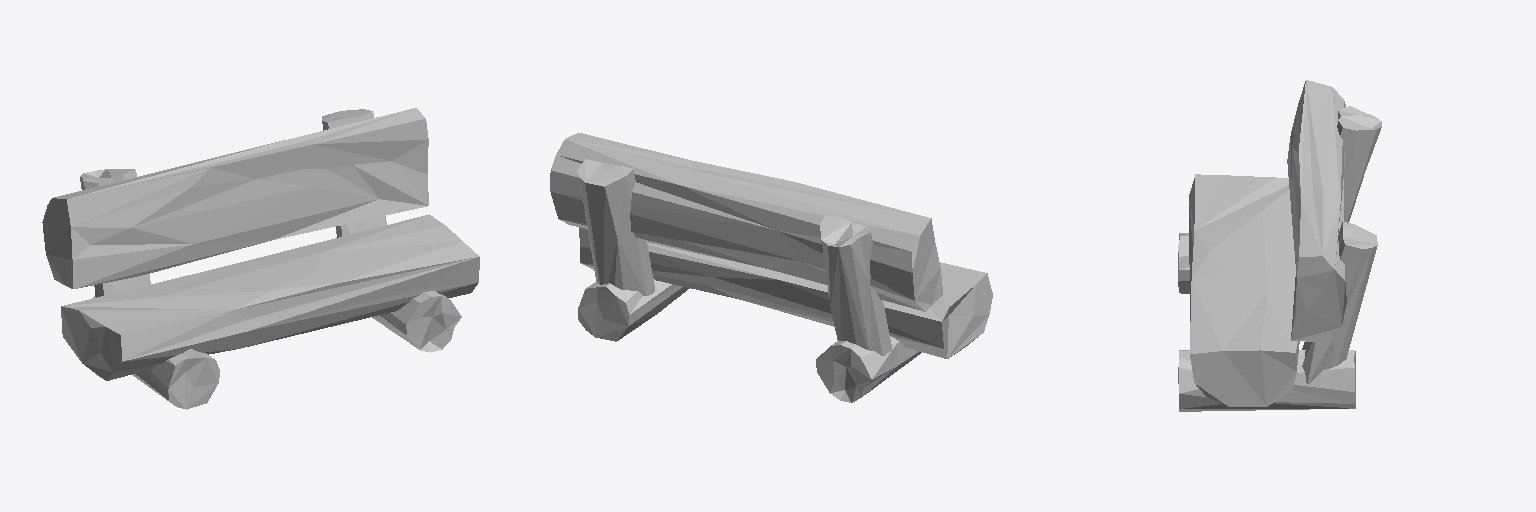
Rendered from bench1.obj.
3 renders of one model, left to right at view 1: azimuth 30°, elevation 25°; view 2: azimuth 150°, elevation 25°; view 3: azimuth 270°, elevation 25°, orthographic.
Parts seen in each view (by area): view 1: TreeBench; view 2: TreeBench; view 3: TreeBench.
Boxes of the visible parts, box(x1,y1,x2,y2) form: TreeBench: box(42, 108, 479, 409); TreeBench: box(550, 133, 992, 402); TreeBench: box(1178, 80, 1381, 411).
Bounding box in the file's own units: 2.51 × 1.17 × 1.2.